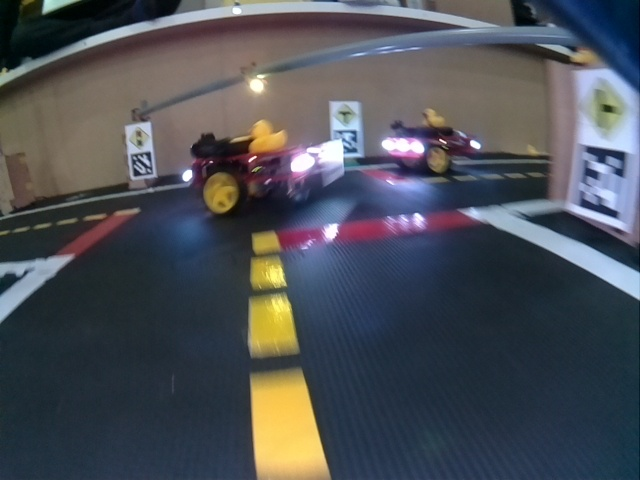Duckie: (247, 121, 288, 152), (422, 109, 444, 126)
Duckiebot: (190, 131, 333, 213), (386, 122, 481, 176)
Intersection sign: (575, 75, 630, 135), (330, 102, 359, 127)
QR code: (568, 147, 634, 221), (333, 131, 360, 157), (130, 154, 157, 178)
Signal sign: (127, 126, 152, 151)
Traffic light: (242, 62, 267, 94)
